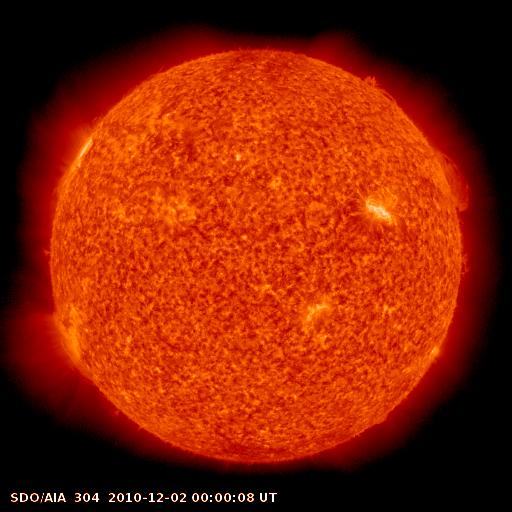prominence: (419, 134, 485, 217), (352, 62, 411, 114), (450, 246, 480, 284)
